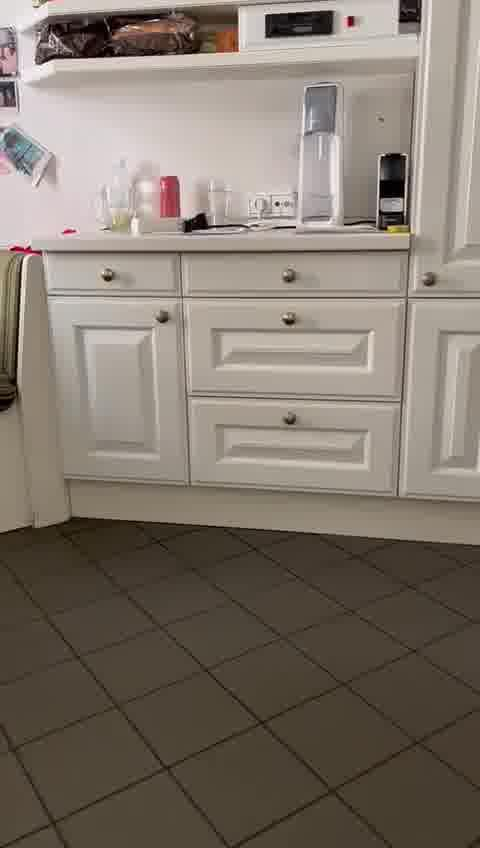cabinet_door: (56, 298, 189, 478), (198, 299, 401, 390), (199, 399, 400, 488), (189, 255, 401, 296), (46, 253, 182, 293)
handle: (411, 265, 443, 292), (91, 261, 120, 285), (273, 264, 301, 288), (149, 308, 176, 328), (280, 306, 297, 332), (281, 408, 298, 431)
